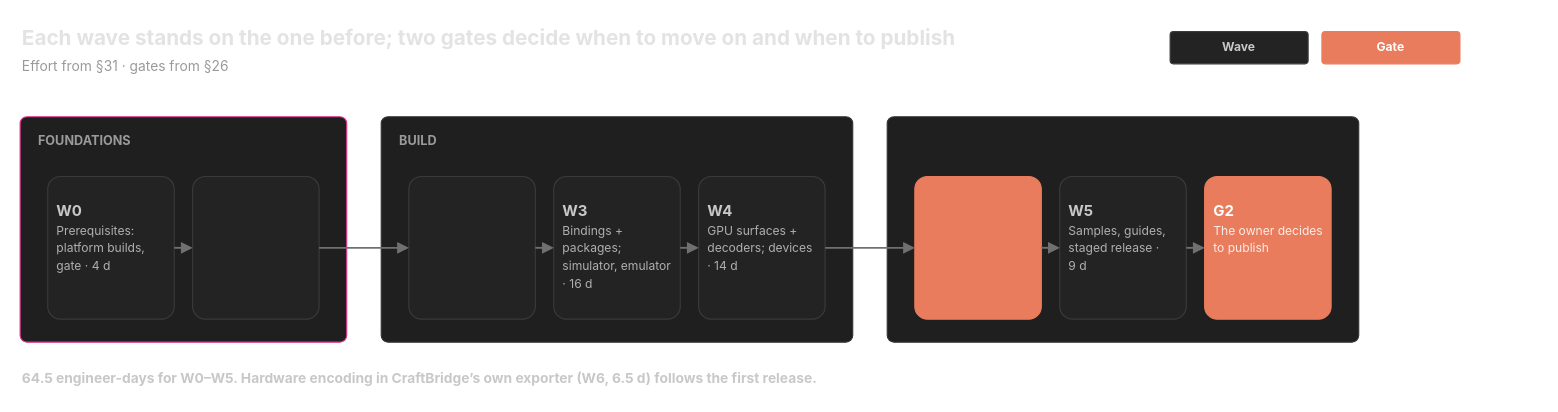
Some shapes in this 1558 by 412 pixel diagram are drawn without their labels. The box of each missing label's shape, as (x1, y1, x2, y2) in pixels:
G1 Device acceptance: the whole corpus on three phones: (914, 175, 1041, 319)
PROVE AND RELEASE: (886, 116, 1359, 342)
W1 Official EffectCraft pin + adaptations list · 1.5 d: (191, 175, 319, 319)
W2 Core + EffectCraft crate; desktop conformance · 20 d: (408, 175, 535, 319)
